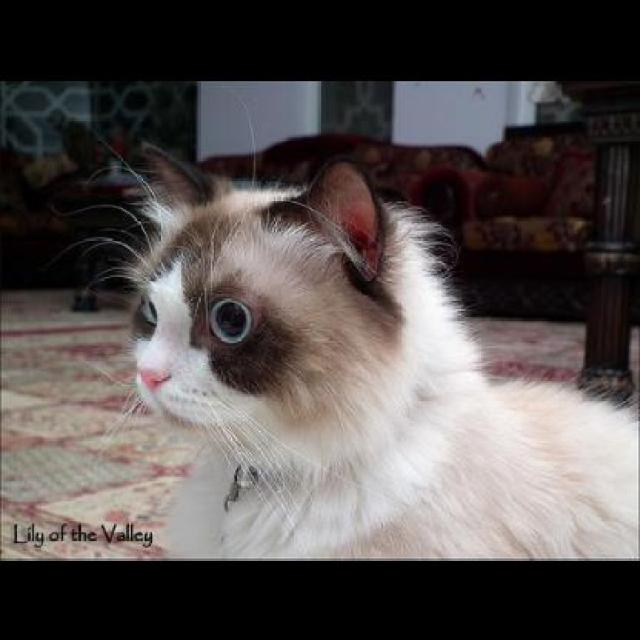unauthorized: (60, 135, 638, 560)
